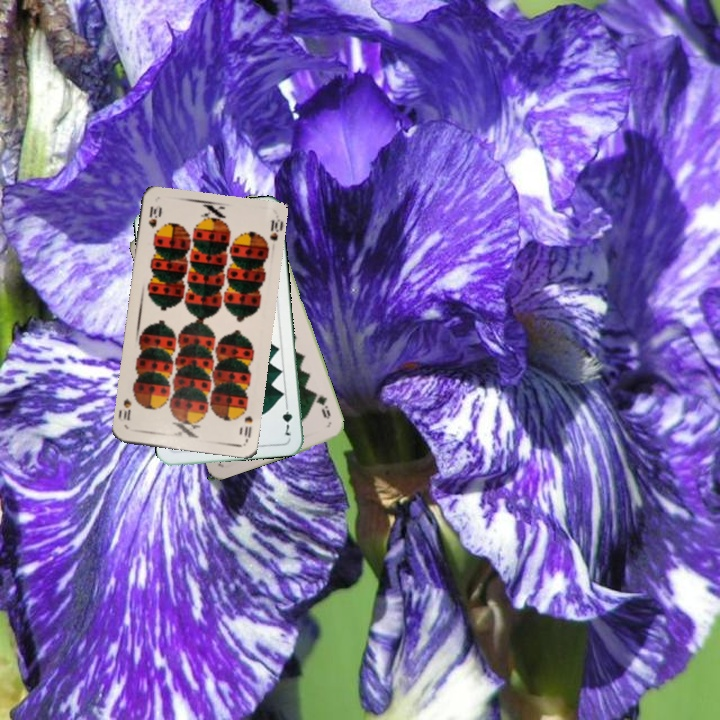G7: (278, 399, 295, 438)
G9: (310, 388, 333, 422)
S10: (238, 402, 255, 443), (145, 201, 163, 231)
